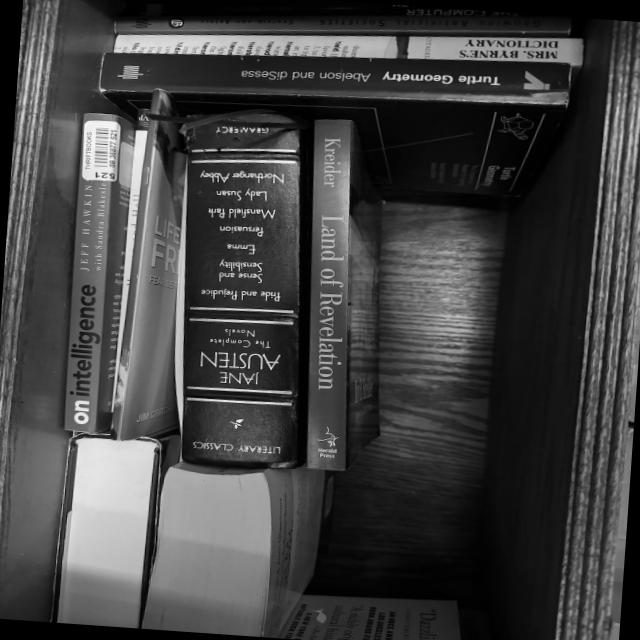book: (98, 52, 570, 197), (176, 126, 310, 468), (305, 119, 383, 471), (60, 112, 135, 435), (114, 29, 582, 69), (114, 13, 570, 38), (113, 129, 145, 326)
